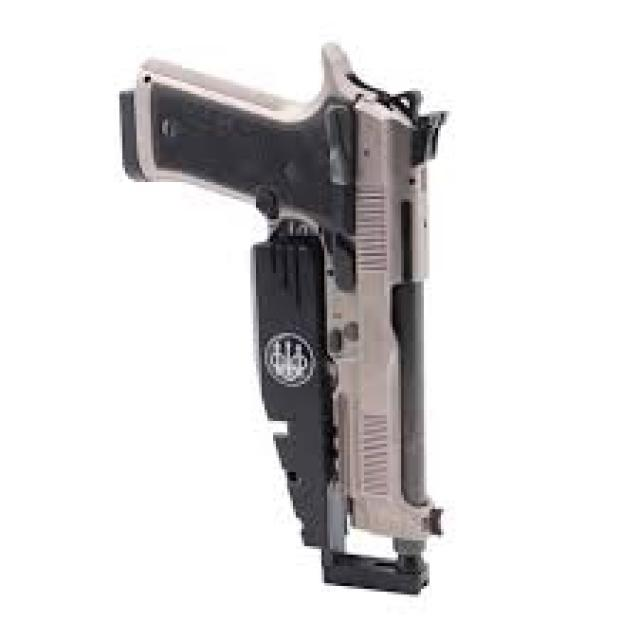pistol: (110, 40, 456, 612)
